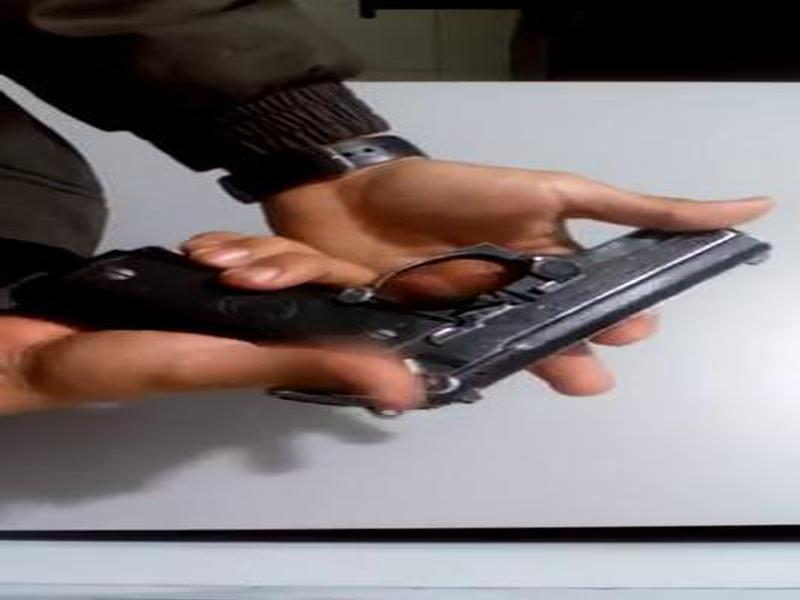Pistola: (40, 201, 800, 410)
